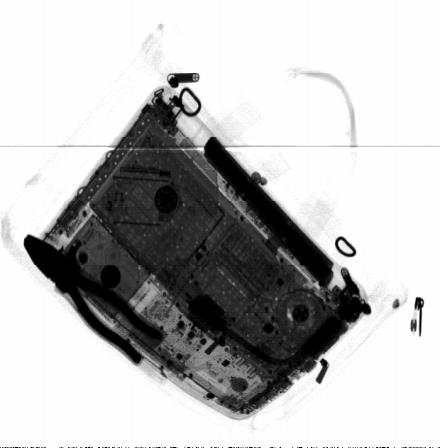Pliers: (23, 233, 164, 367)
